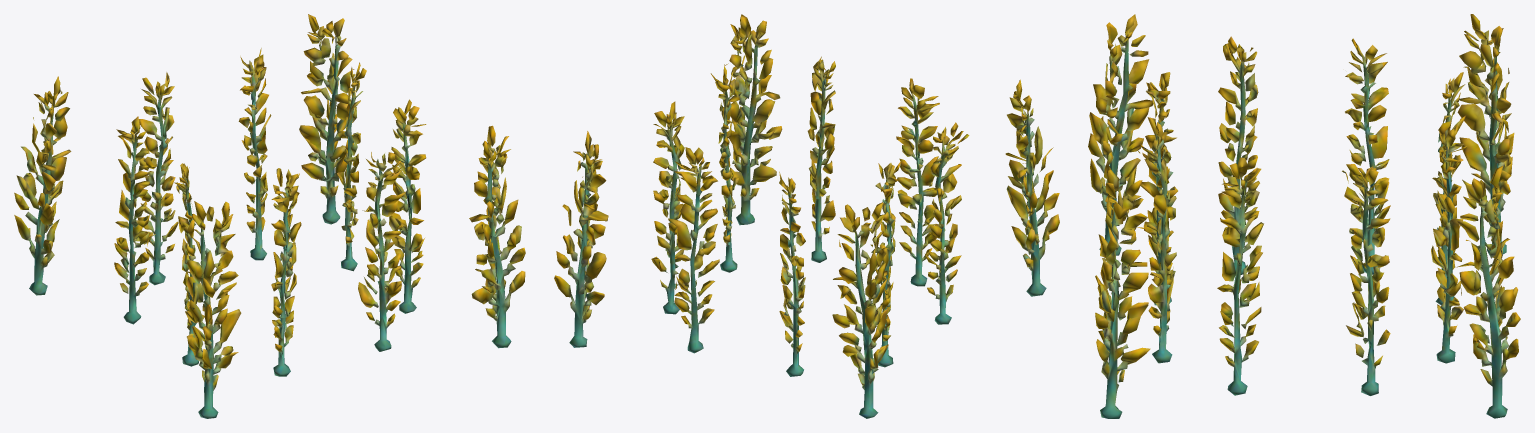
File: kelp.glb
The picture shows the model from 3 angles, left to right: view 1: azimuth 30°, elevation 25°; view 2: azimuth 150°, elevation 25°; view 3: azimuth 270°, elevation 25°; orthographic projection. The views are drawn at different scales.
Parts seen in each view (by area): view 1: prop_lo; view 2: prop_lo; view 3: prop_lo.
Part boxes in pixels (box(x1,y1,x2,y2)): prop_lo: box(14, 14, 525, 418); prop_lo: box(554, 14, 1059, 418); prop_lo: box(1088, 14, 1520, 418).
Bounding box in the file's own units: 1.9 × 1.17 × 1.9.
1 material, 1 textured.
